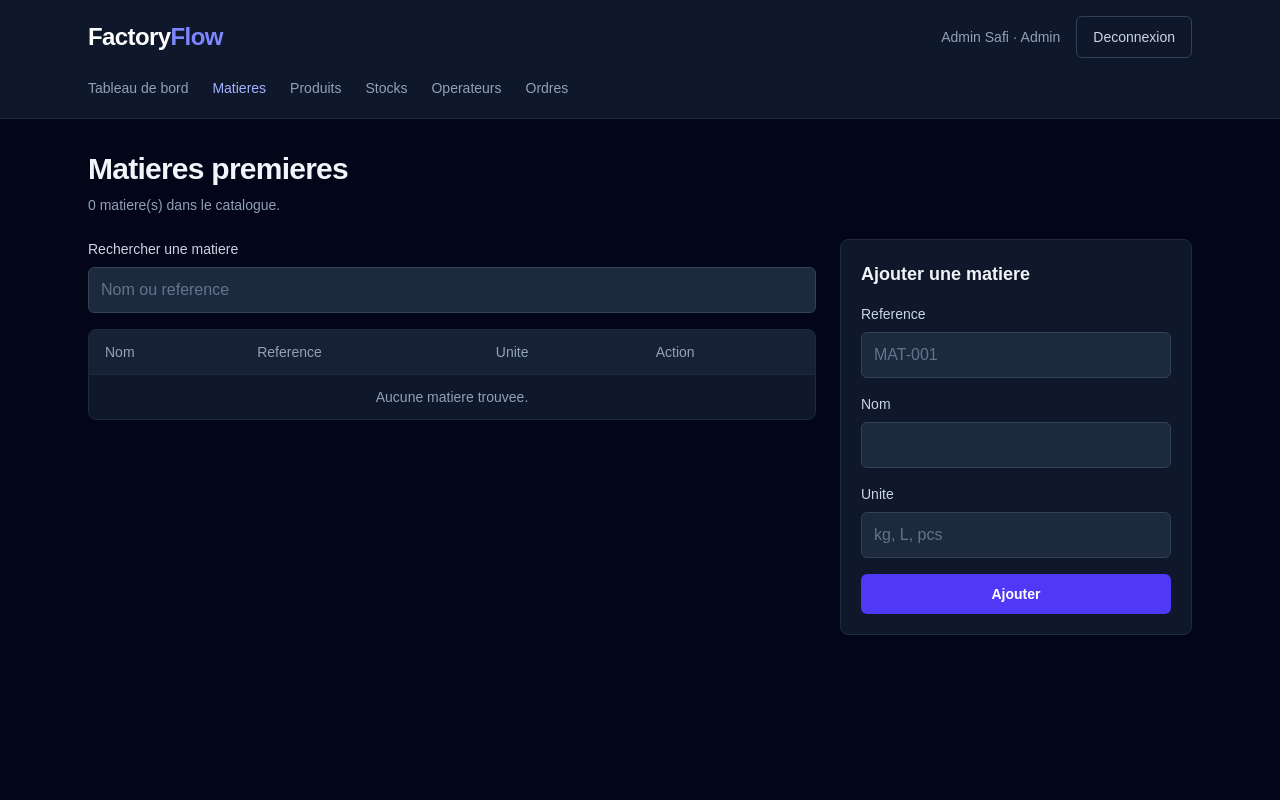
Scenario: material creation normalizes the reference and refreshes the list
expect the text "Aucune matiere trouvee." is shown: met, box [89, 374, 815, 419]
Type " mat-z " into the field labelled "Reference" at point(1016, 355), box [861, 332, 1171, 378]
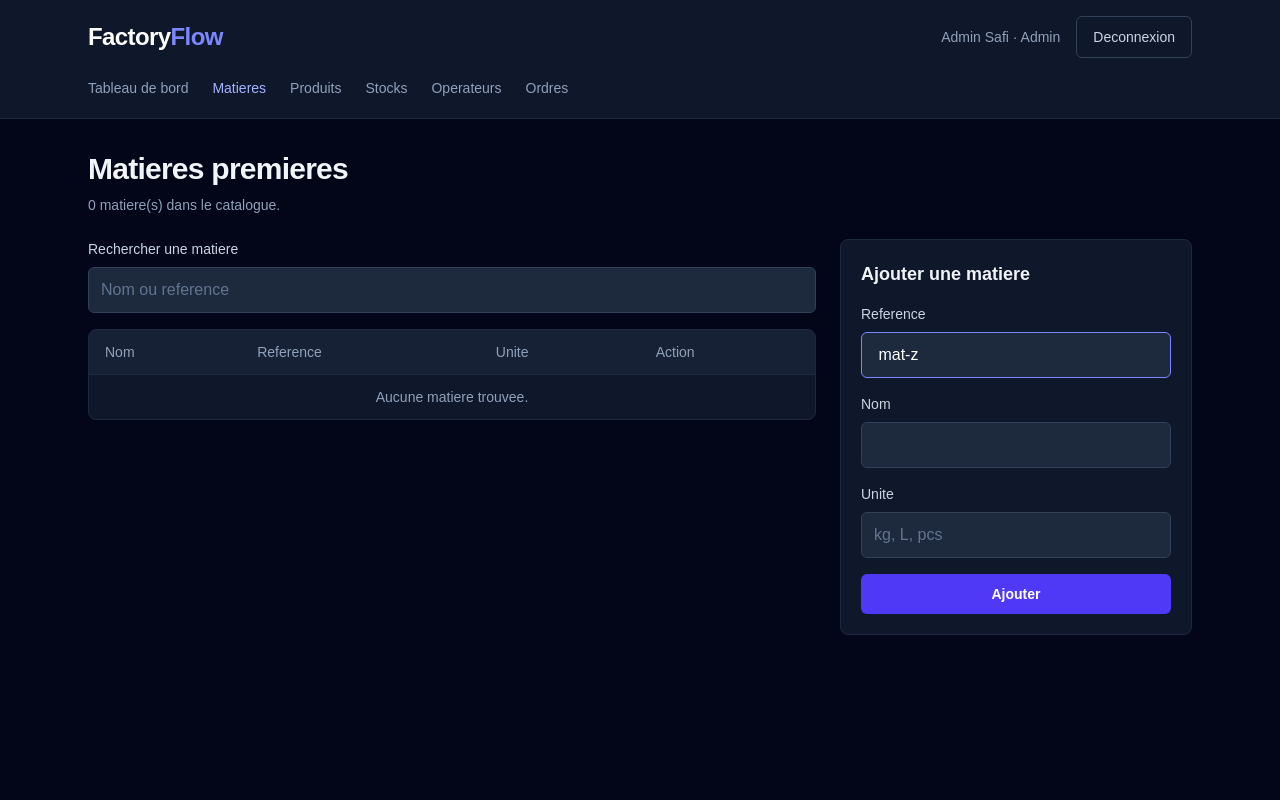
Type " Cuivre " into the field labelled "Nom" at point(1016, 445), box [861, 422, 1171, 468]
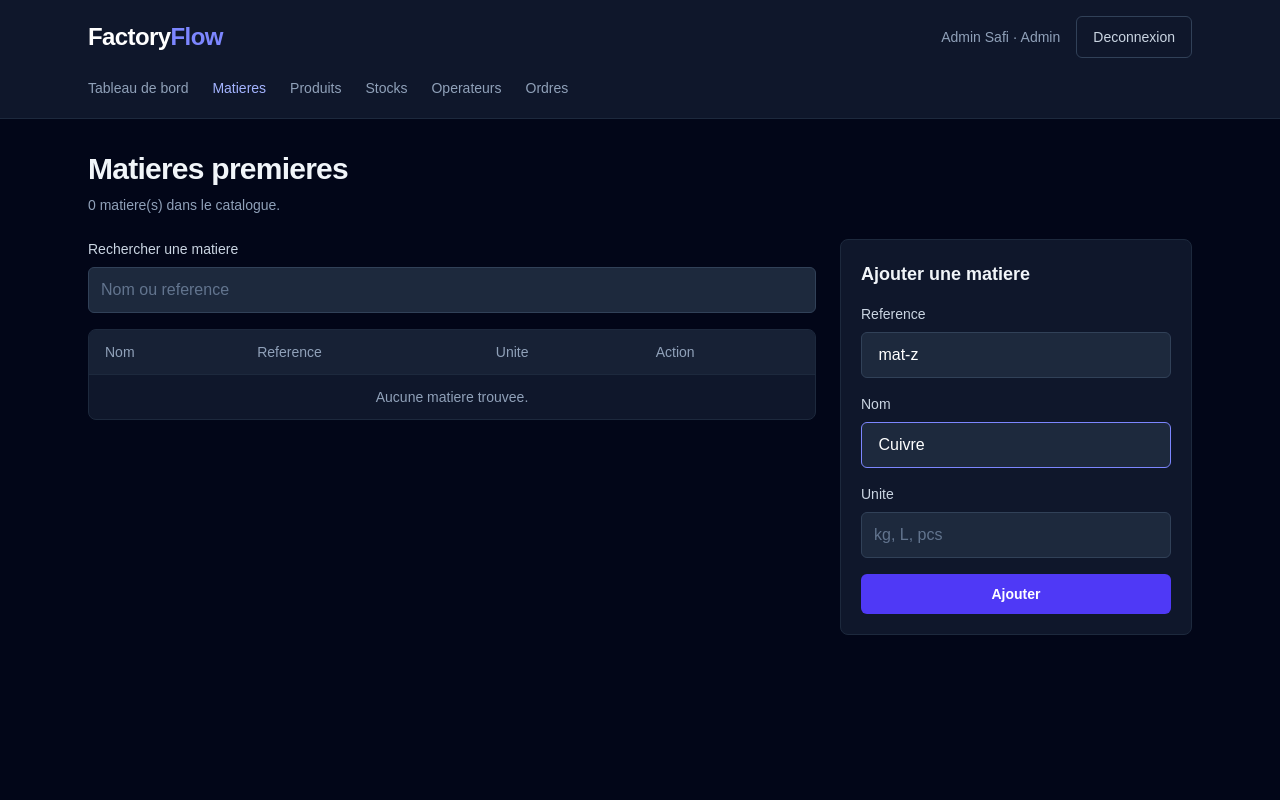
Type "kg" into the field labelled "Unite" at point(1016, 535), box [861, 512, 1171, 558]
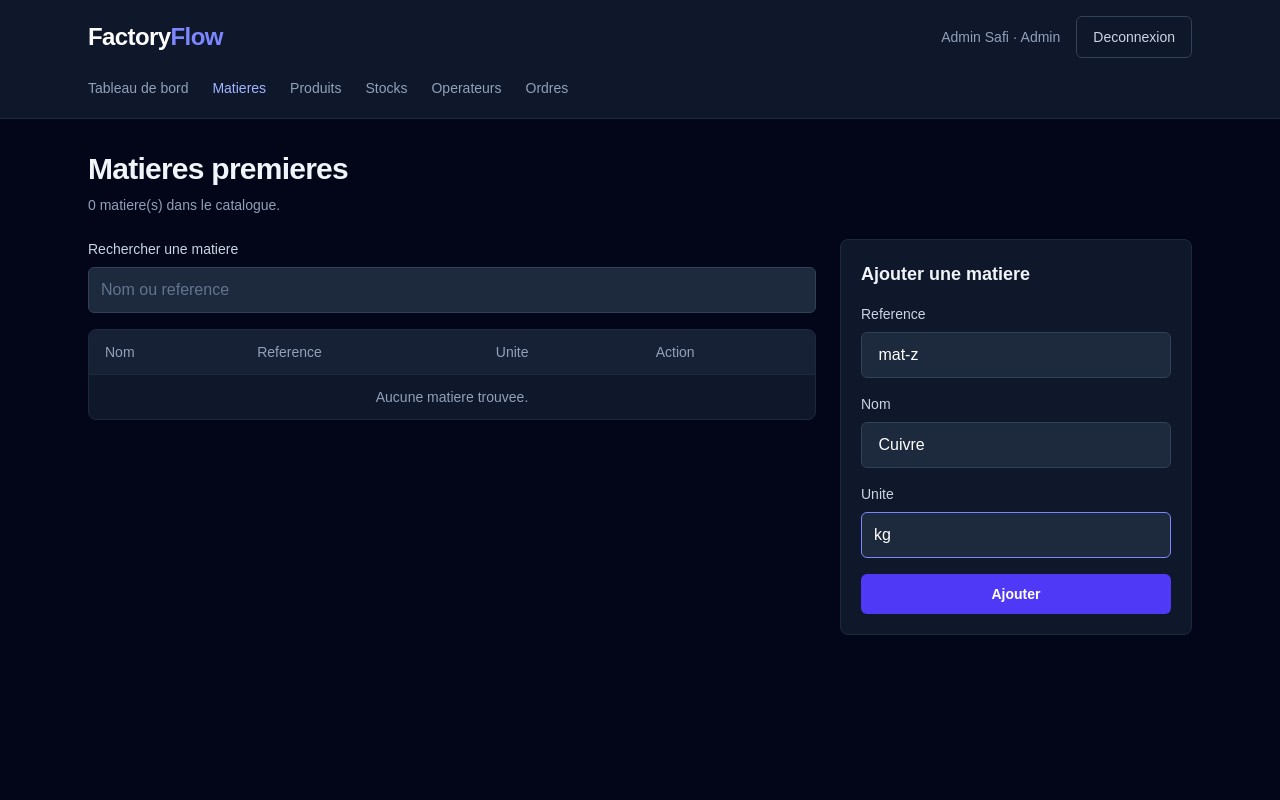
Click the button "Ajouter" at point(1016, 594), box [861, 574, 1171, 614]
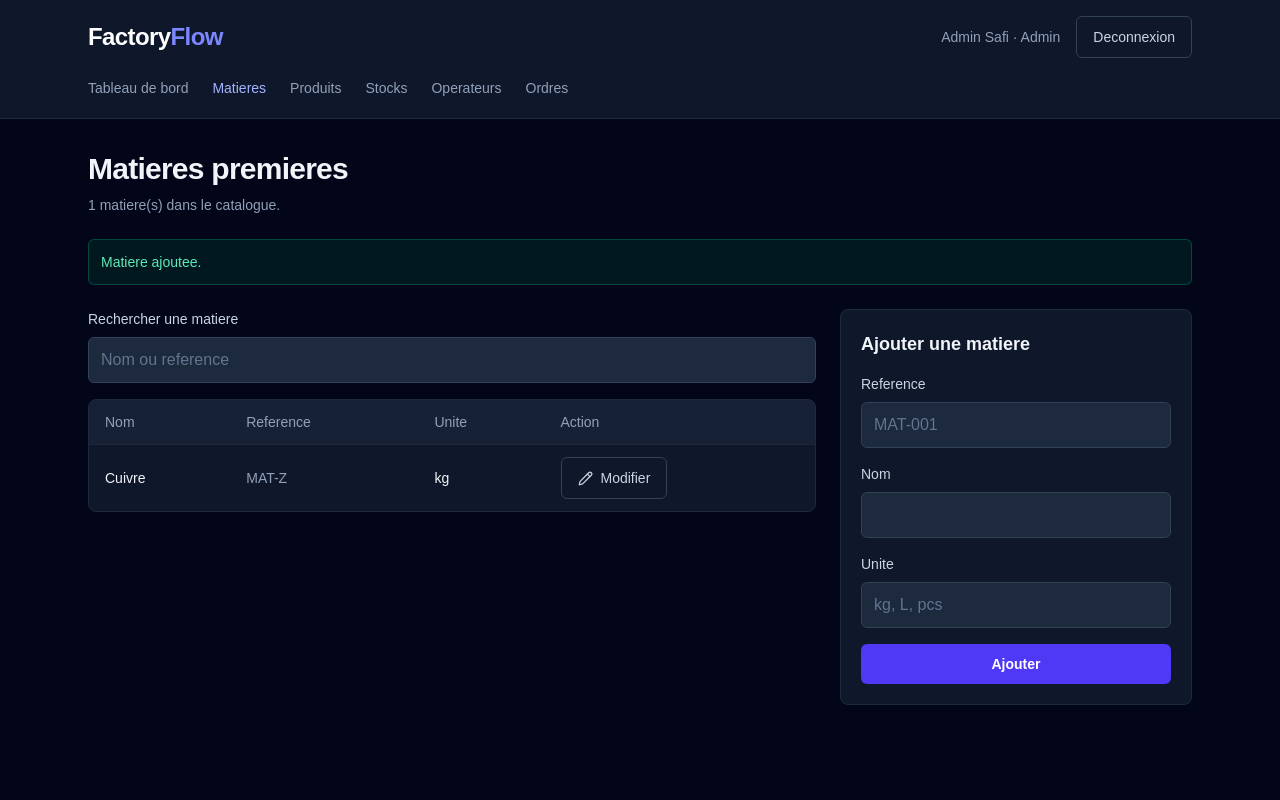
expect the button with aria-label "Modifier Cuivre" is shown: met, box [560, 457, 667, 499]
expect the field labelled "Reference" is empty: met, box [861, 402, 1171, 448]
